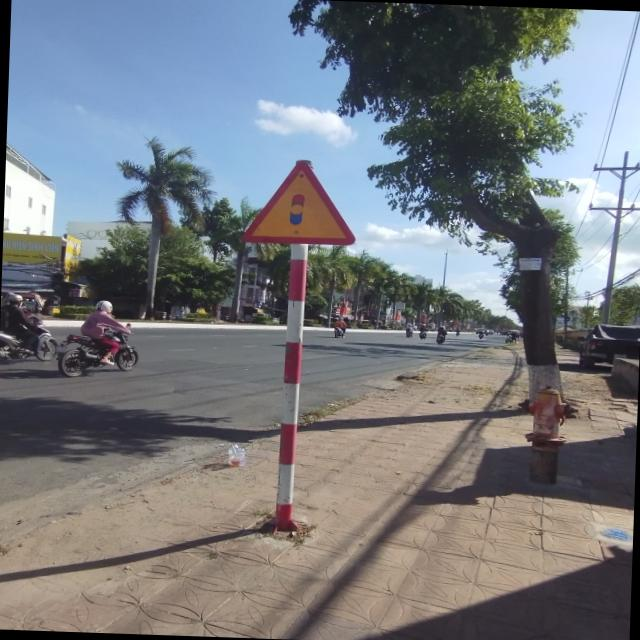Duong_Co_Go_Giam_Toc: (240, 158, 358, 246)
